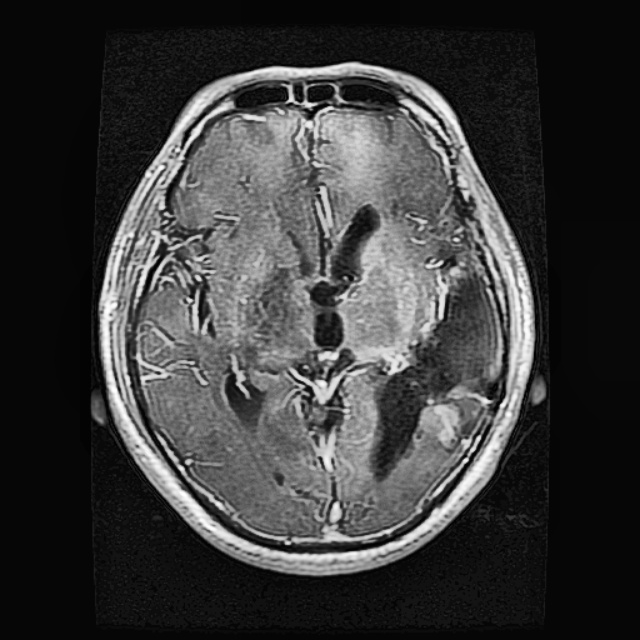Glioma: (369, 274, 498, 477)
